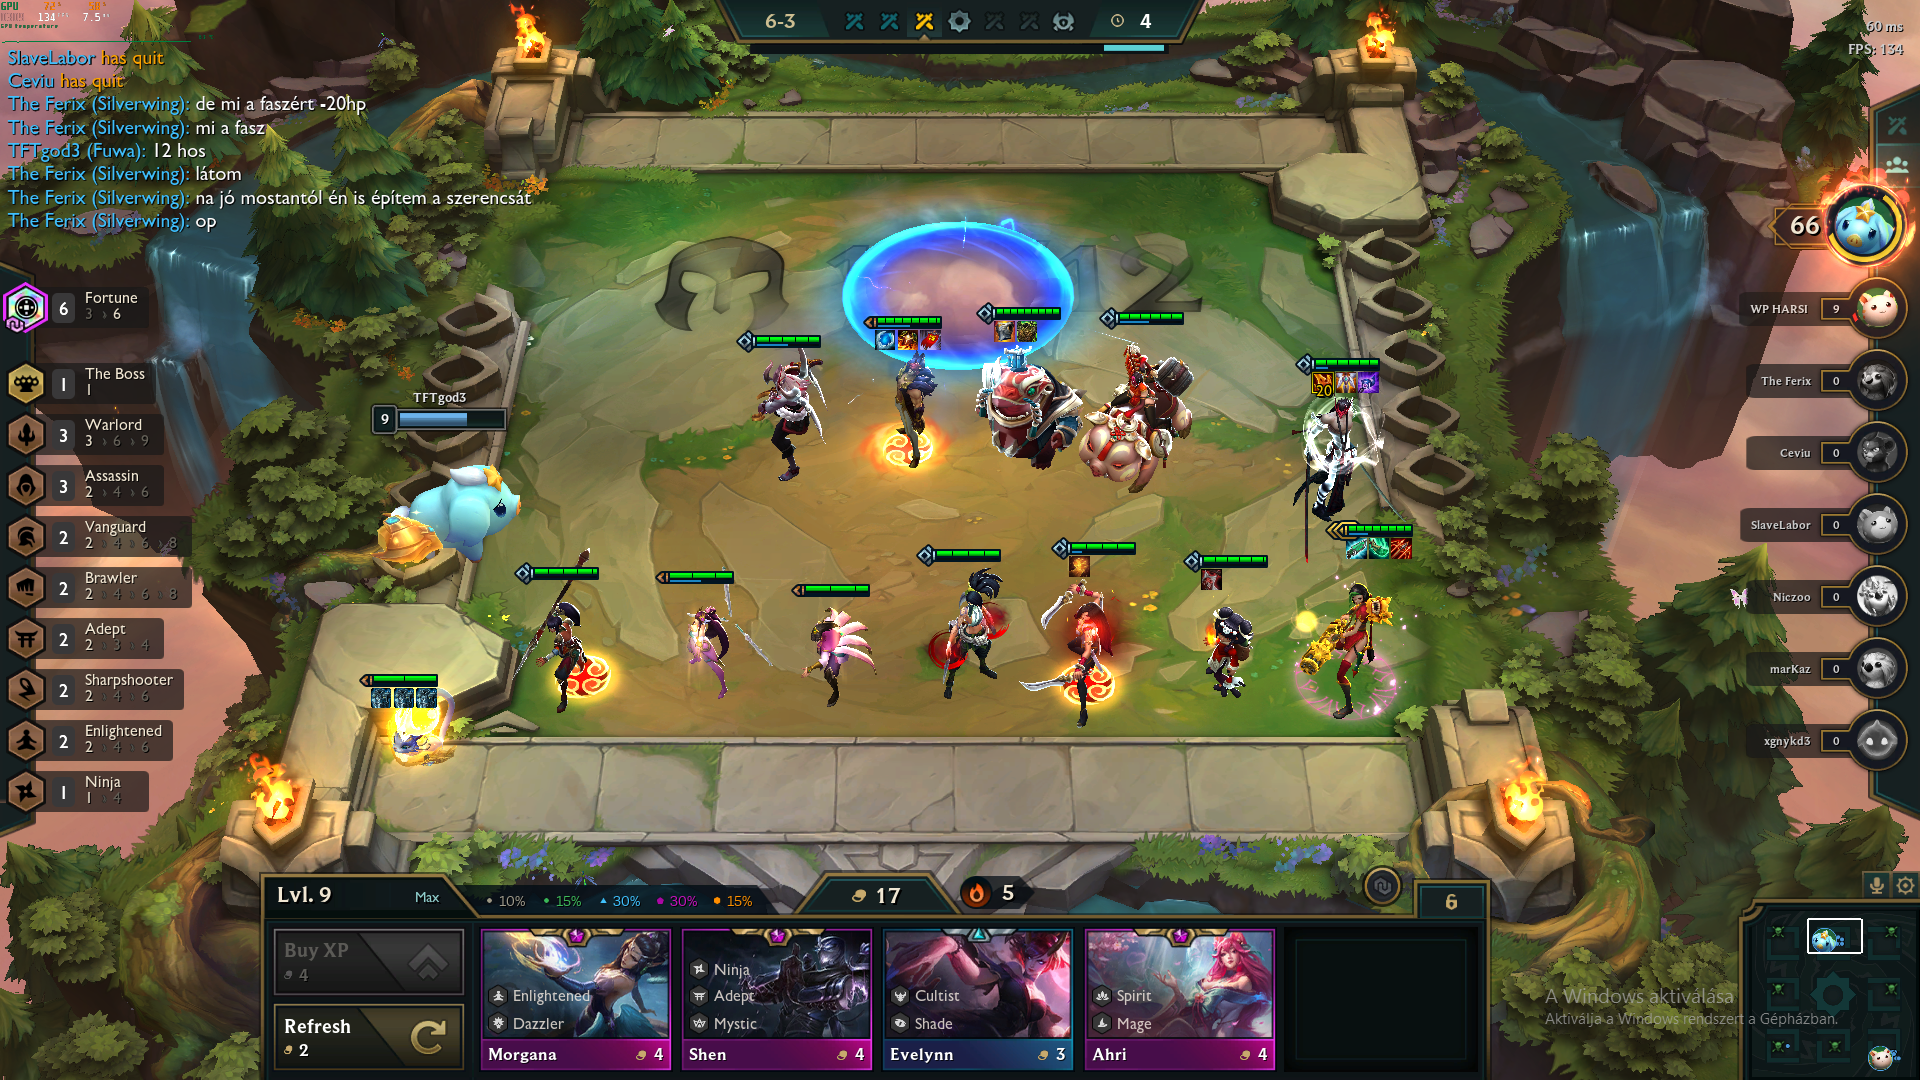1star_irelia: (642, 554, 785, 715)
1star_sett: (851, 299, 969, 487)
1star_talon: (775, 570, 891, 723)
2star_aatrox: (729, 322, 840, 504)
2star_akali: (906, 535, 1019, 716)
2star_annie: (1174, 543, 1283, 720)
2star_katarina: (1013, 531, 1149, 735)
2star_nidalee: (501, 537, 628, 721)
2star_sejuani: (1067, 303, 1203, 506)
2star_tahmkench: (963, 295, 1098, 498)
2star_yone: (1266, 345, 1431, 567)
3star_jinx: (1273, 513, 1437, 735)
3star_jinx_chosen: (1270, 512, 1435, 732)
item_deathblade: (1309, 368, 1336, 396)
item_fon: (369, 684, 394, 709), (392, 686, 417, 709)
item_frozenheart: (872, 326, 898, 353)
item_ga: (1335, 369, 1361, 397)
item_gargoyle: (992, 315, 1019, 343)
item_gunblade: (1344, 535, 1371, 563)
item_hoj: (1065, 553, 1093, 582)
item_luden: (1356, 369, 1382, 397)
item_runaan: (1387, 533, 1414, 560)
item_shojin: (1367, 531, 1394, 560)
item_sunfire: (895, 324, 922, 353)
item_warlord: (916, 324, 944, 353)
item_warmogs: (1013, 316, 1040, 344)
item_zeke: (1199, 564, 1226, 593)
trait_adept2: (1, 611, 198, 665)
trait_assassin3: (1, 458, 177, 508)
trait_brawler2: (1, 560, 198, 615)
trait_enlightened2: (1, 713, 198, 767)
trait_fortune6: (1, 272, 167, 343)
trait_fortune_chosen: (1, 274, 53, 342)
trait_ninja1: (1, 764, 198, 818)
trait_sharpshooter2: (1, 659, 198, 713)
trait_theboss1: (1, 357, 177, 409)
trait_vanguard2: (1, 508, 198, 562)
trait_warlord3: (1, 410, 178, 462)
